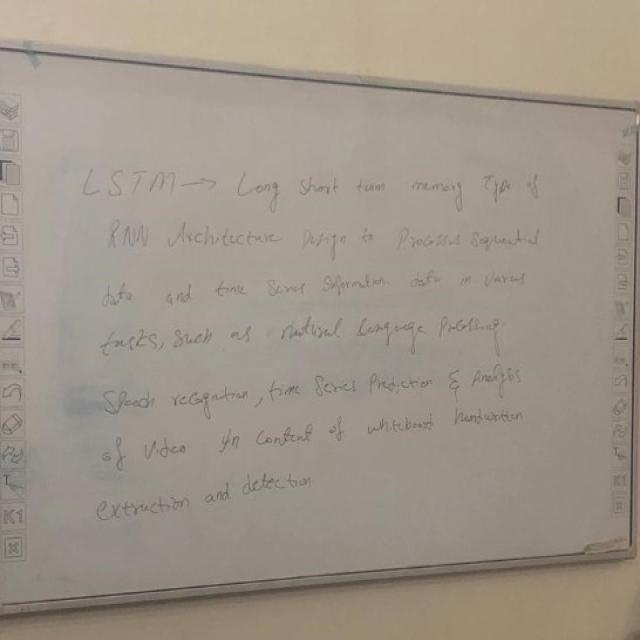White-board: (0, 34, 640, 621)
